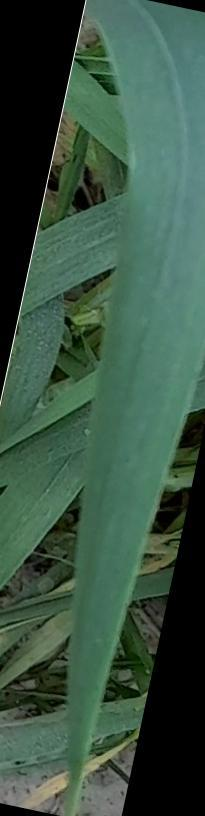Wheat: (140, 50, 205, 345), (104, 356, 173, 455), (96, 468, 141, 571), (83, 583, 112, 681)
